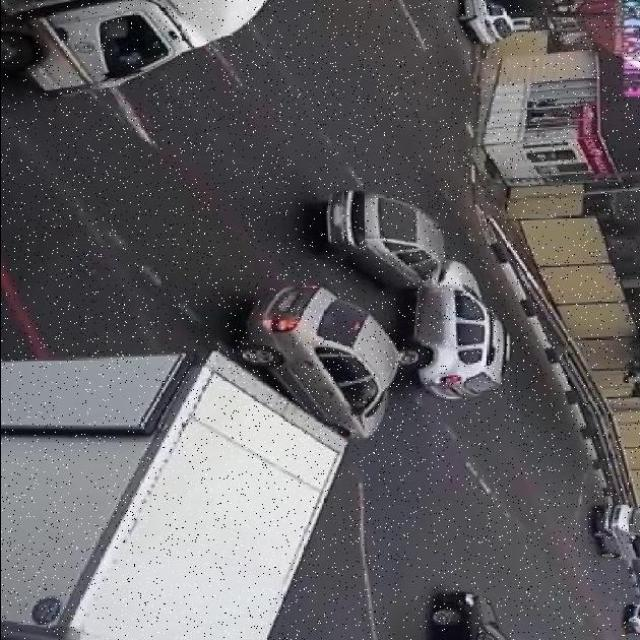accident: (396, 220, 494, 336)
